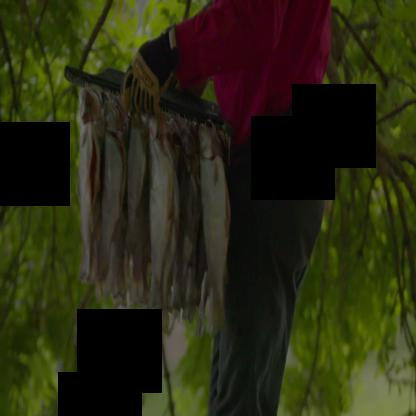fish: (198, 106, 230, 338), (124, 94, 150, 320), (100, 86, 126, 306), (148, 106, 174, 320), (76, 78, 100, 288), (176, 119, 200, 317)
